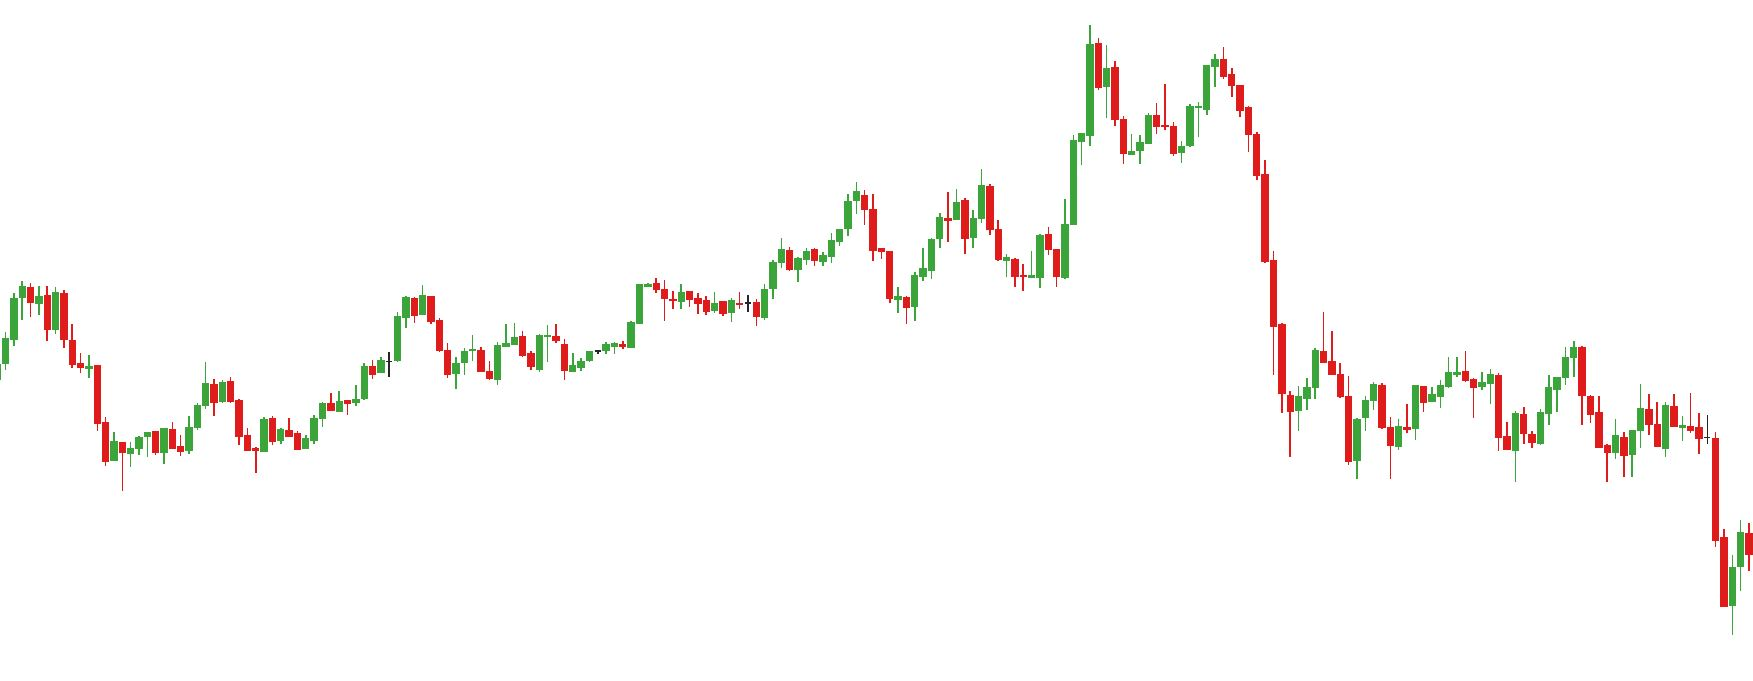buy: (1285, 368, 1363, 485), (176, 392, 271, 481), (534, 327, 586, 387)
sell: (1160, 40, 1238, 144)
